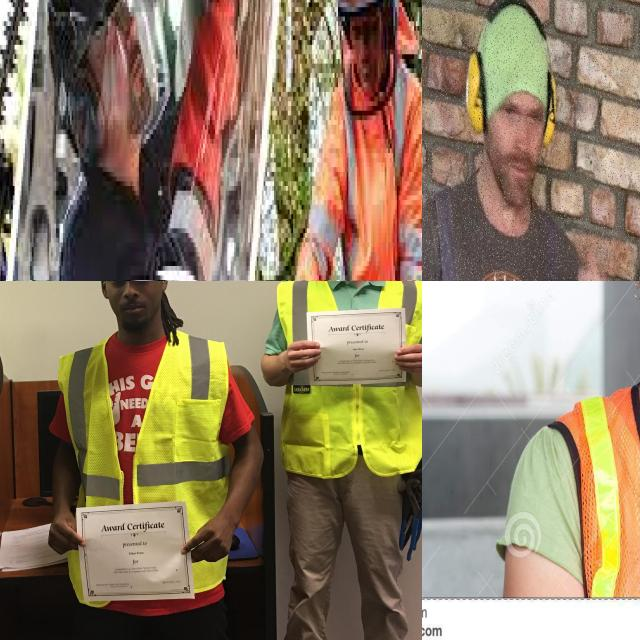Ear-protection: (56, 49, 101, 162), (459, 31, 494, 146)
No_Glasses: (108, 281, 157, 290)
face_nomask: (95, 281, 172, 326)
hand_glove: (168, 0, 247, 197)
hand_noglove: (182, 500, 245, 580), (47, 499, 90, 560), (281, 333, 322, 381), (395, 340, 422, 388)
head_helmet: (43, 0, 130, 63)
person: (38, 281, 268, 640), (33, 0, 241, 281), (288, 281, 421, 640), (494, 281, 640, 593), (295, 0, 422, 281)
vest: (60, 332, 248, 581), (531, 363, 640, 611), (287, 281, 422, 466)
